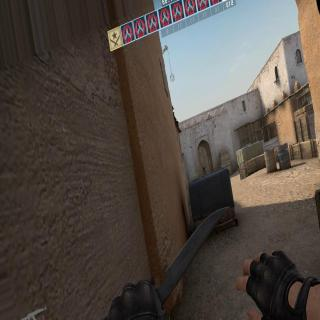CT-Body: (203, 166, 206, 174)
CT-Head: (204, 166, 205, 167)
